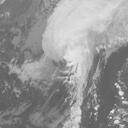cyclone: (41, 26, 91, 79)
